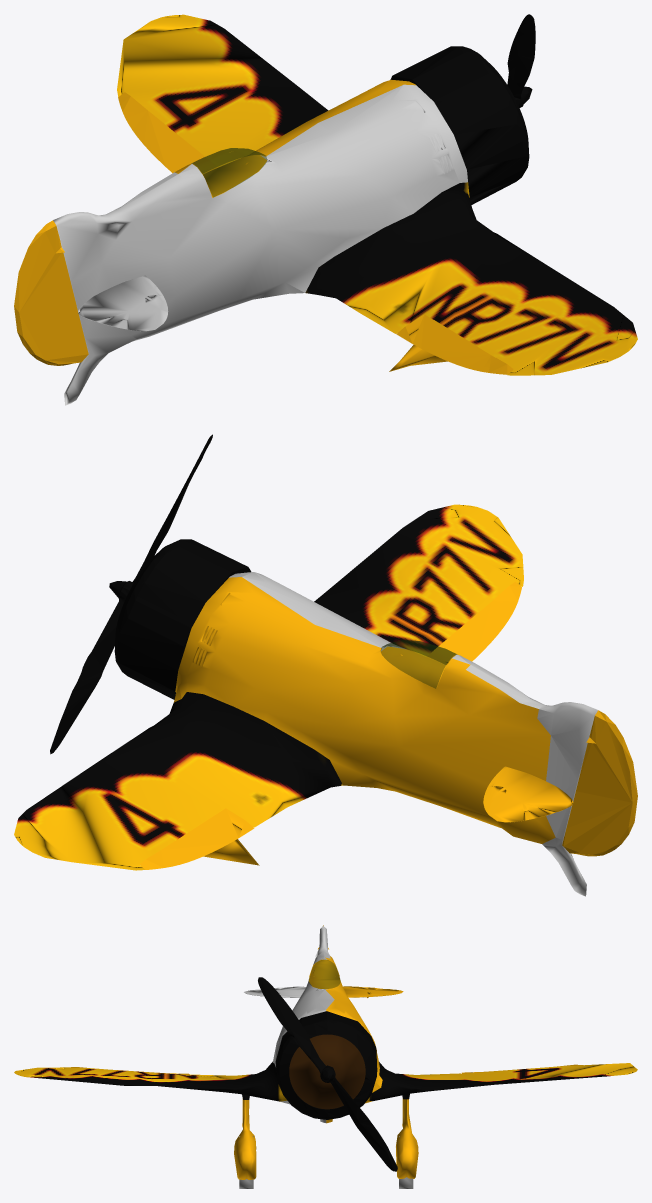
The picture shows the model from 3 angles, top to bottom: view 1: azimuth 30°, elevation 25°; view 2: azimuth 150°, elevation 25°; view 3: azimuth 270°, elevation 25°; orthographic projection. The views are drawn at different scales.
Visible parts, largest first — view 1: GBBODY; view 2: GBBODY; view 3: GBBODY.
Part boxes in pixels (x1=…): GBBODY: x1=14, y1=14, x2=637, y2=405; GBBODY: x1=14, y1=434, x2=637, y2=896; GBBODY: x1=14, y1=925, x2=637, y2=1188.
Size of the model in its own units: 15422 by 9025 by 23230.
